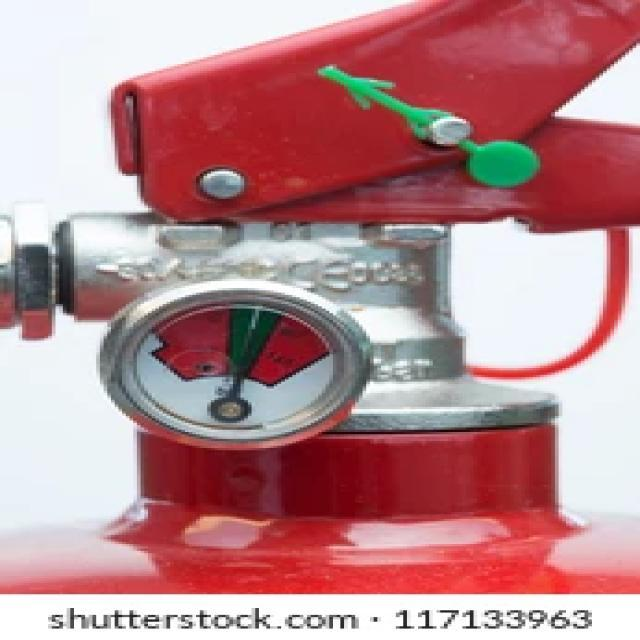pressure gauge: (101, 282, 372, 448)
